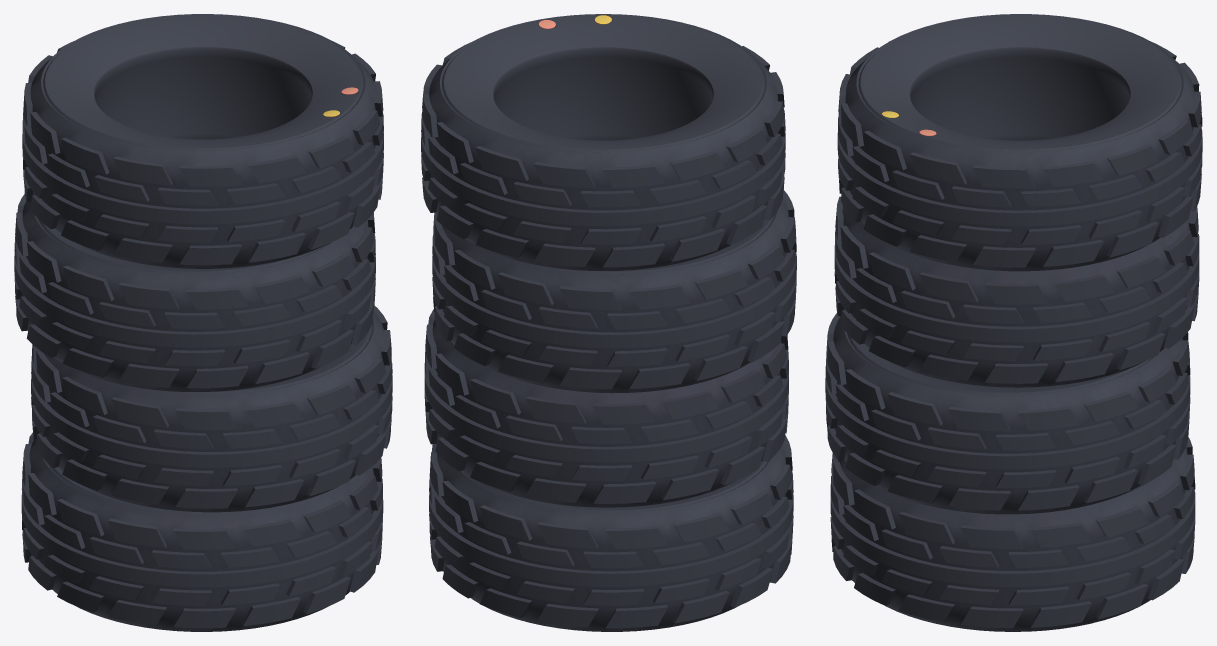
The model's file is tire-stack.glb.
The picture shows the model from 3 angles, left to right: view 1: azimuth 30°, elevation 25°; view 2: azimuth 150°, elevation 25°; view 3: azimuth 270°, elevation 25°; orthographic projection.
Parts seen in each view (by area): view 1: tire-stack_body; view 2: tire-stack_body; view 3: tire-stack_body.
Boxes of the visible parts, x1=… form: tire-stack_body: x1=14, y1=14, x2=392, y2=631; tire-stack_body: x1=421, y1=14, x2=796, y2=631; tire-stack_body: x1=825, y1=14, x2=1202, y2=631.
Size of the model in its own units: 0.7475 by 1.05 by 0.7437.
1 material, 1 textured.
